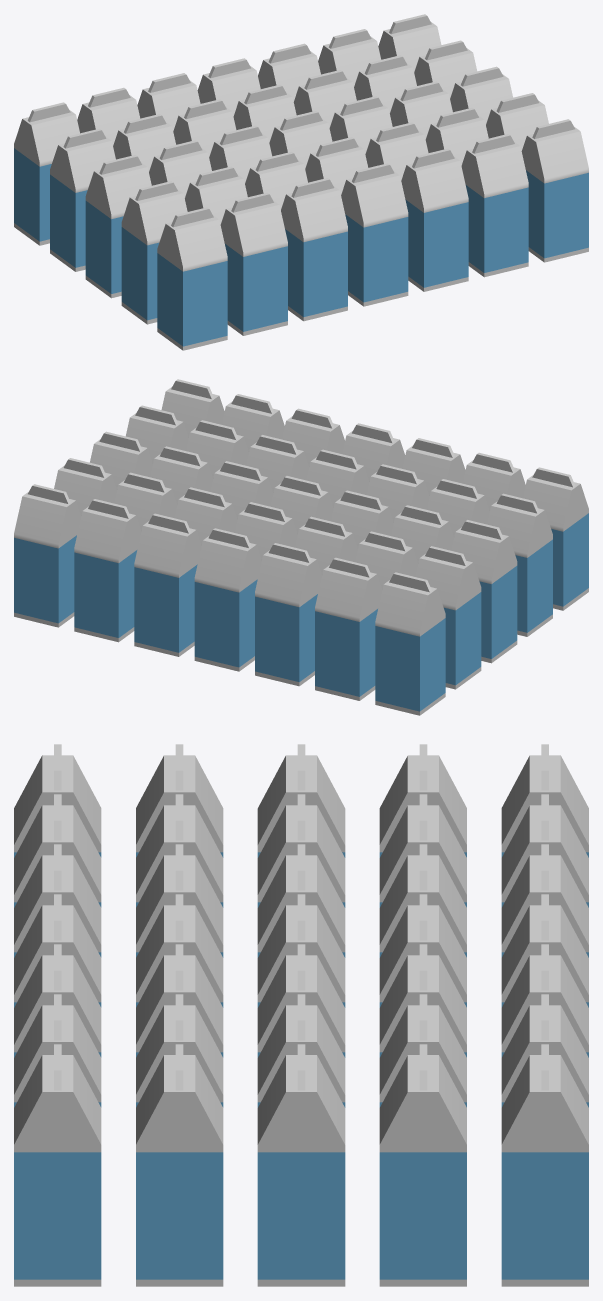
The model's file is SM_FullShelf_Milk.fbx.
The picture shows the model from 3 angles, top to bottom: view 1: azimuth 30°, elevation 25°; view 2: azimuth 150°, elevation 25°; view 3: azimuth 270°, elevation 25°; orthographic projection. The views are drawn at different scales.
Parts seen in each view (by area): view 1: SM_FullShelf_Milk; view 2: SM_FullShelf_Milk; view 3: SM_FullShelf_Milk.
Boxes of the visible parts, box(x1,y1,x2,y2) form: SM_FullShelf_Milk: box(14, 14, 588, 350); SM_FullShelf_Milk: box(14, 379, 588, 715); SM_FullShelf_Milk: box(14, 744, 588, 1286).
Size of the model in its own units: 0.9337 by 0.2726 by 0.6737.
